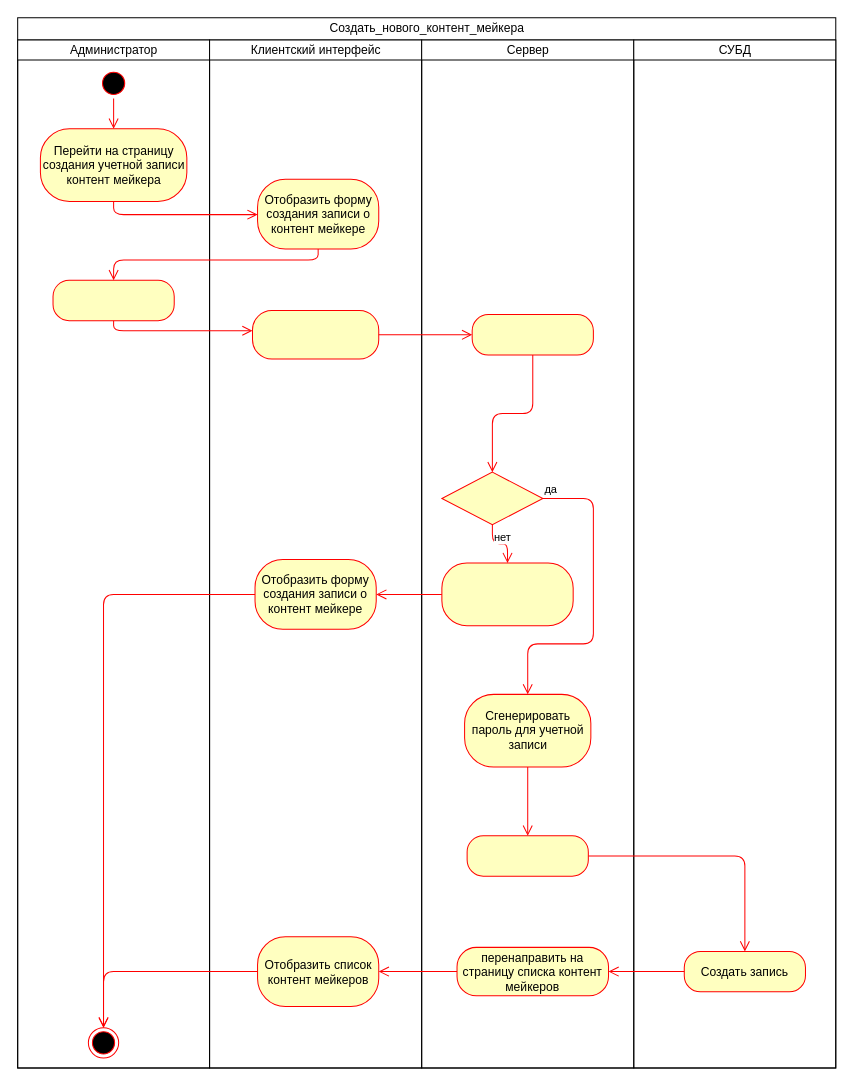
Image size: 853x1086. Some labels were removed from this diagram. Each missing label, with the centre of its shape:
"Заполнить форму" goes at pixel 113 300.
"Запрос на создание" goes at pixel 527 855.
"Корректные данные?" goes at pixel 492 498.
"Отправить запрос на создание объекта контент мейкер" goes at pixel 315 334.
"перенаправить на страницу создания учетной записи контент мейкера" goes at pixel 507 594.
"Проверить данные" goes at pixel 532 334.
